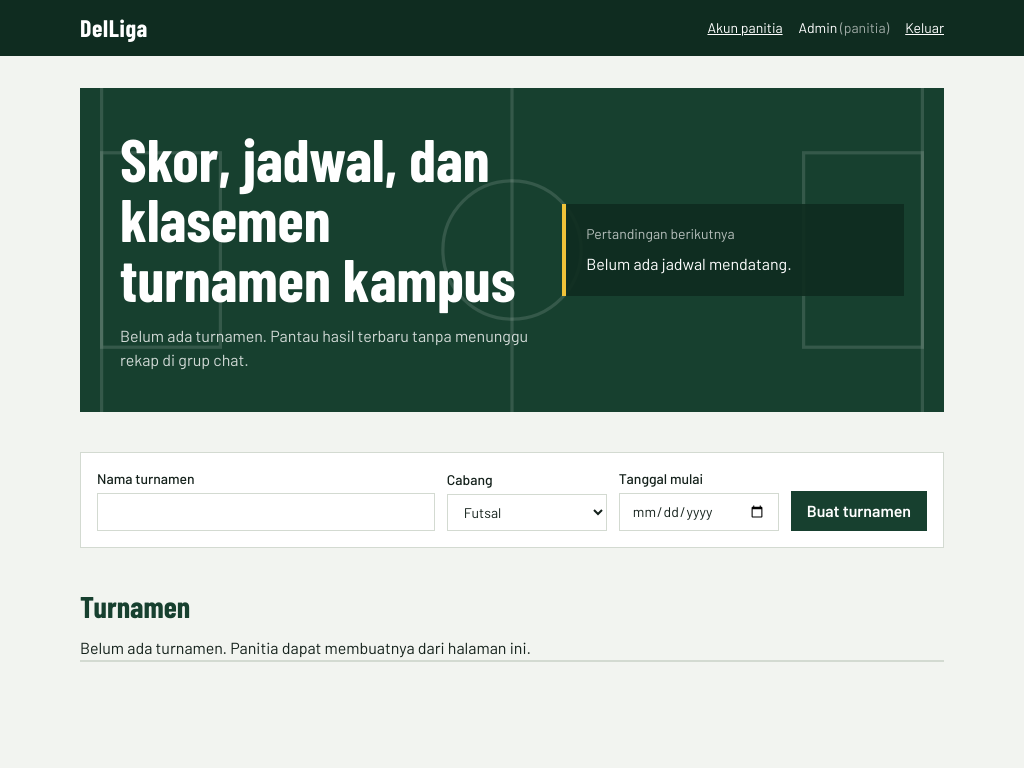
it: App › keluar mengarahkan ke halaman masuk
The width and height of the screenshot is (1024, 768).
What coordinates should you click on to do the following:
click the button "Keluar"
I would click on:
 (925, 28)
Its box is [905,18,944,38].
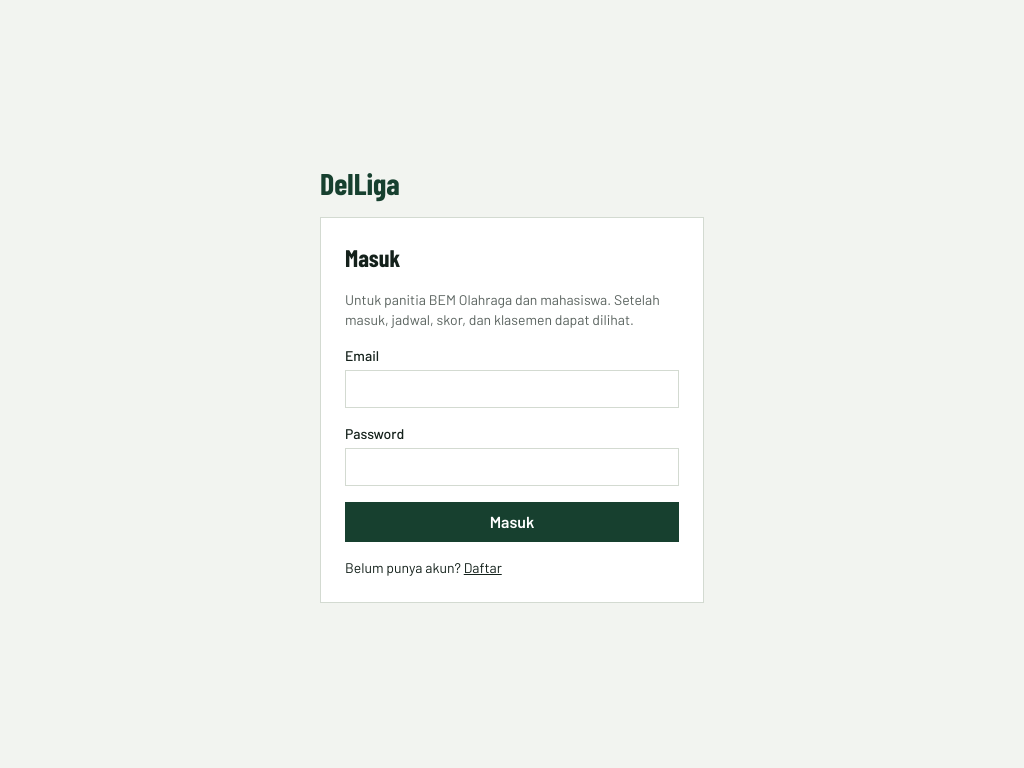
Expected: the heading "Masuk" is shown, [345,243,400,272]
